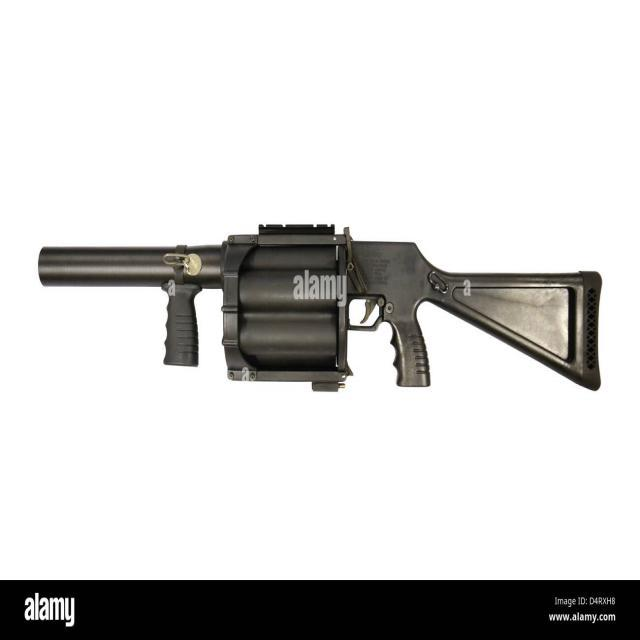rocket launcher: (32, 204, 603, 408)
